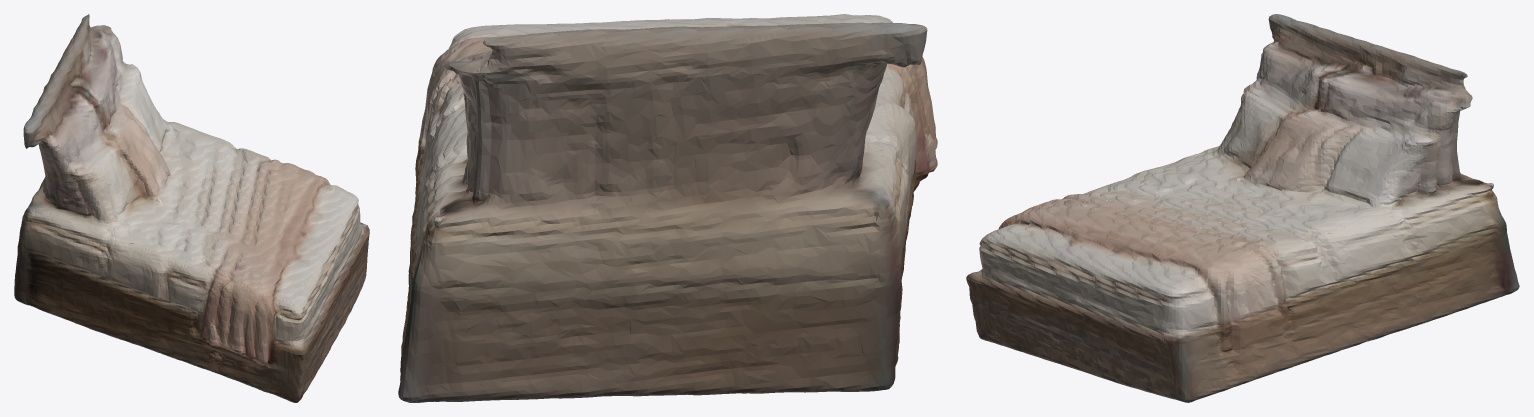
Rendered from nova-queen-bed-hydraulic-storage.glb.
The picture shows the model from 3 angles, left to right: view 1: azimuth 30°, elevation 25°; view 2: azimuth 150°, elevation 25°; view 3: azimuth 270°, elevation 25°; orthographic projection. The views are drawn at different scales.
Parts seen in each view (by area): view 1: orient; view 2: orient; view 3: orient.
Boxes of the visible parts, x1,y1,x2,y2 form: orient: (14, 14, 369, 402); orient: (398, 14, 937, 402); orient: (966, 14, 1519, 402).
Bounding box in the file's own units: 1.63 × 1.2 × 2.25.
